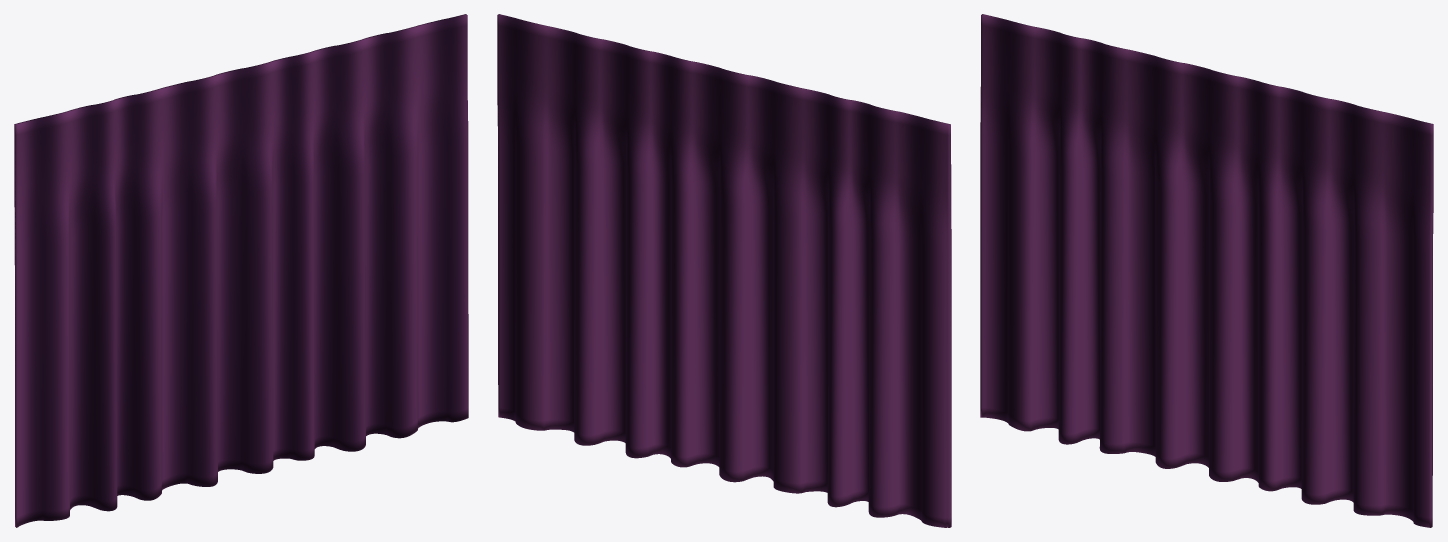
The model's file is Th_Backdrop.fbx.
3 renders of one model, left to right at view 1: azimuth 30°, elevation 25°; view 2: azimuth 150°, elevation 25°; view 3: azimuth 330°, elevation 25°, orthographic.
Parts seen in each view (by area): view 1: Th_Backdrop; view 2: Th_Backdrop; view 3: Th_Backdrop.
Part boxes in pixels (x1,y1,x2,y2): Th_Backdrop: (14,14,468,527); Th_Backdrop: (497,14,951,527); Th_Backdrop: (980,14,1433,527).
Size of the model in its own units: 0.94 by 0.8 by 0.0578.
